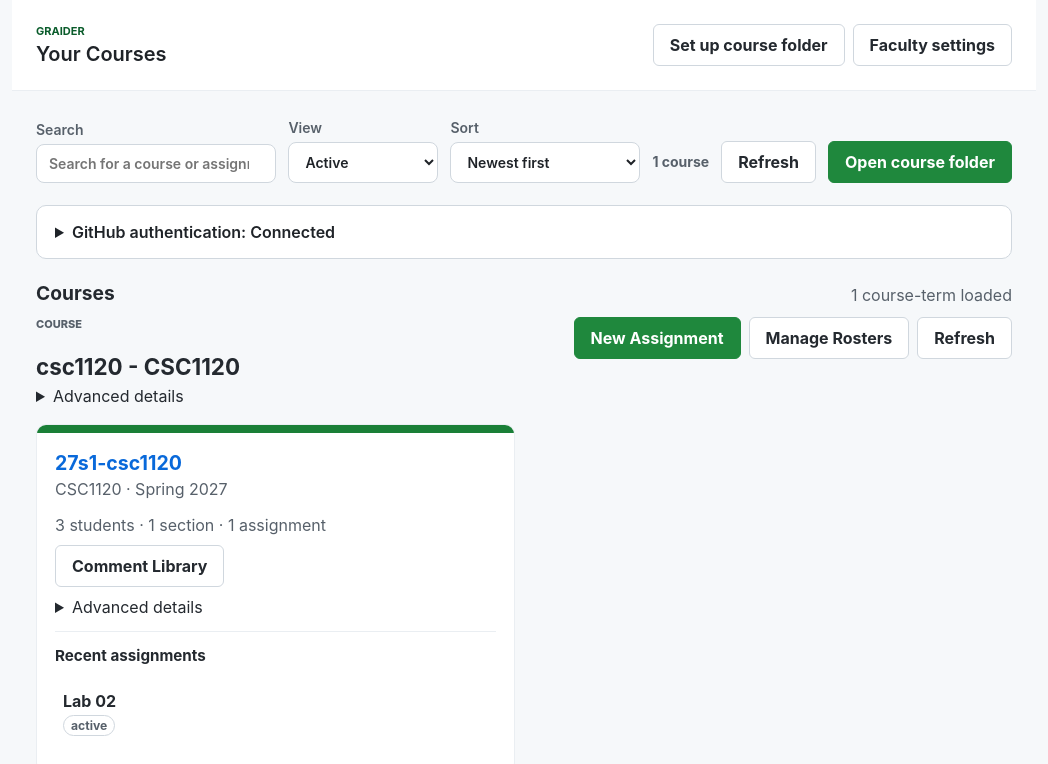
it: App routing — reached from the dashboard › renders assignment detail panels, compact grade status summary, and workflow actions
Step 1. Click the button with aria-label "Open assignment detail for Lab 02" → (90, 701), box [55,683,496,744]
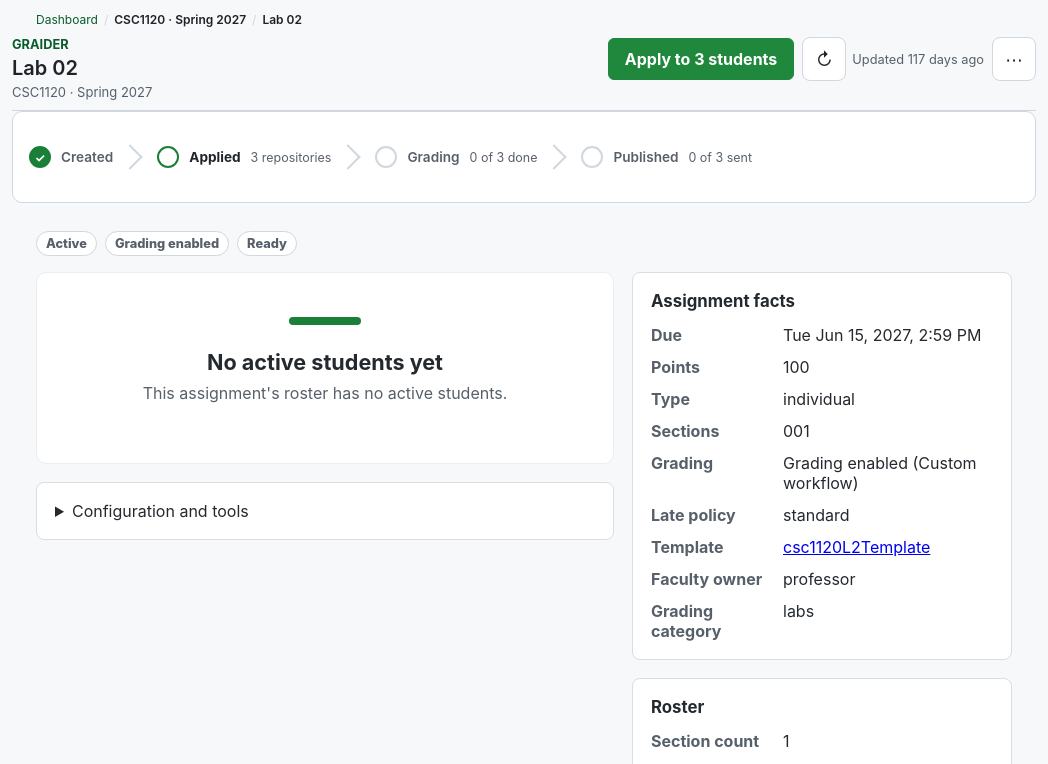
Expected: the heading "Lab 02" is shown, [12,56,78,80]
Result: the heading "Assignment facts" is shown at [651,291,795,311]
Result: the button "Apply to 3 students" is enabled at [608,38,794,80]
Step 2. Click the button named "More assignment actions" → (1014, 59), box [992,37,1036,81]
(page scrolled)
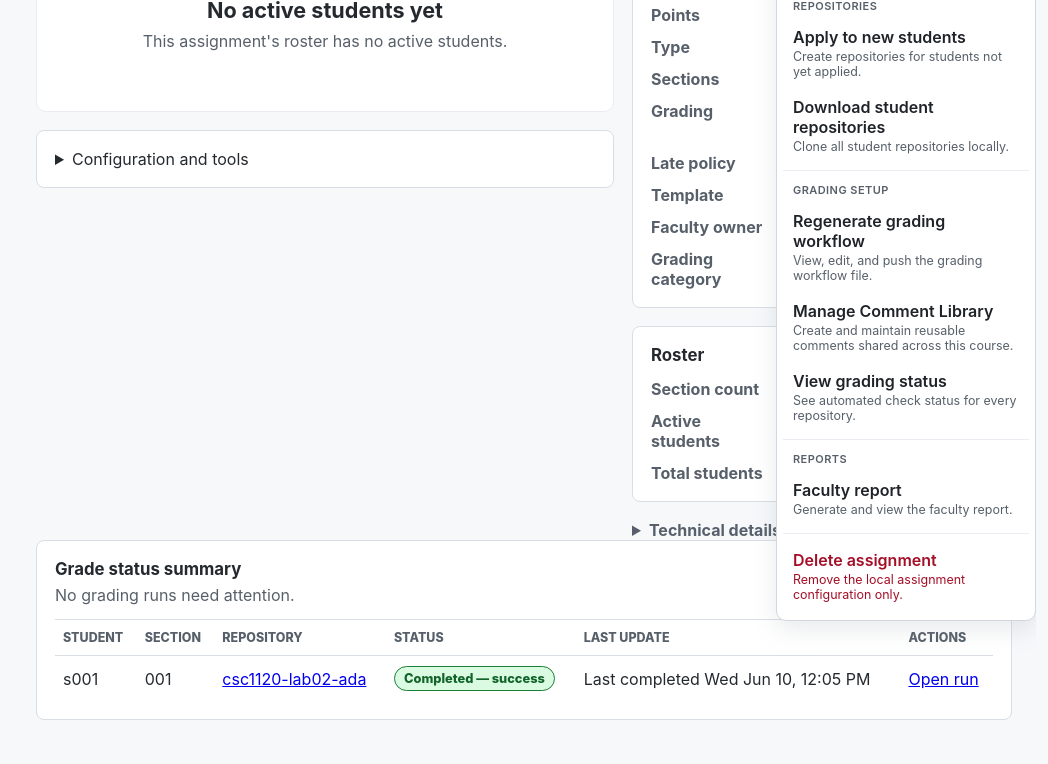
Result: the menu item "Faculty report Generate and view the faculty report." is enabled at [783,472,1029,525]
Result: the menu item "View grading status" is enabled at [783,363,1029,431]
